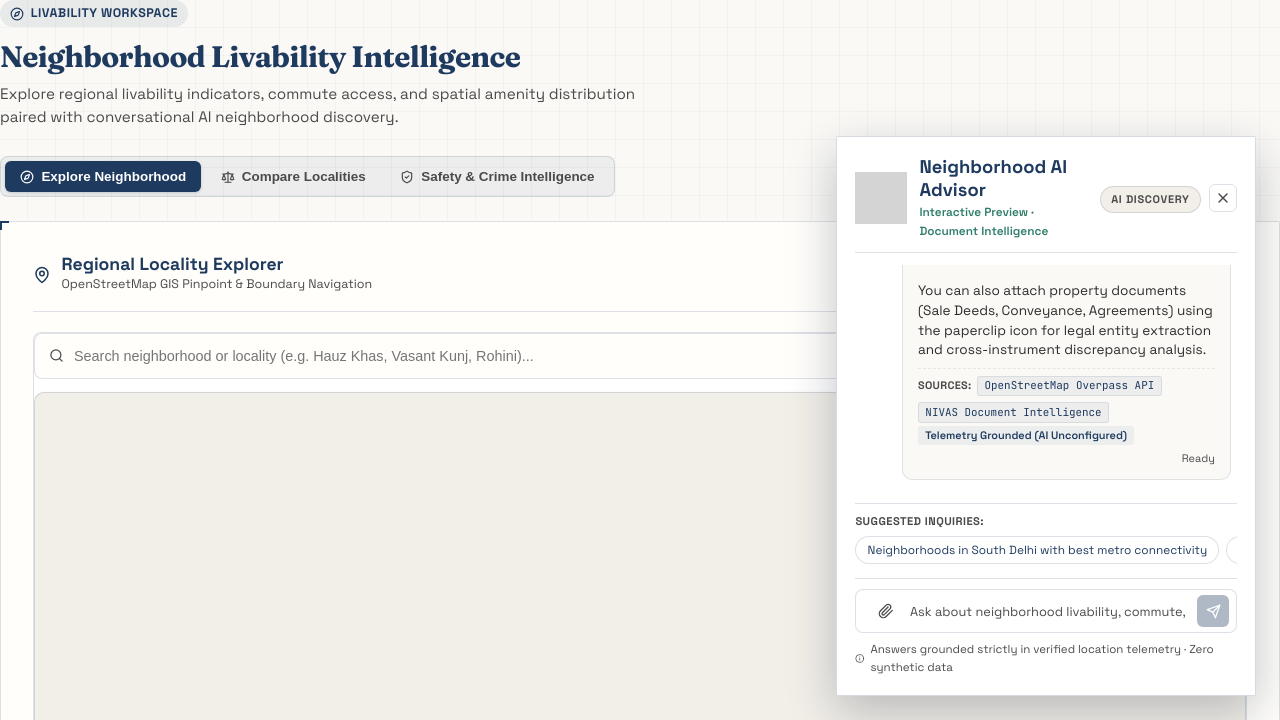
Test: LivabilityWorkspace Shell & State Isolation › handles sending a message with grounded advisor response and uses logo for assistant replies
(page scrolled)
Type "Best areas near green parks" into the field with placeholder "Ask about neighborhood livability, commute, schools..." at (1050, 611), box 910,596 -> 1189,626
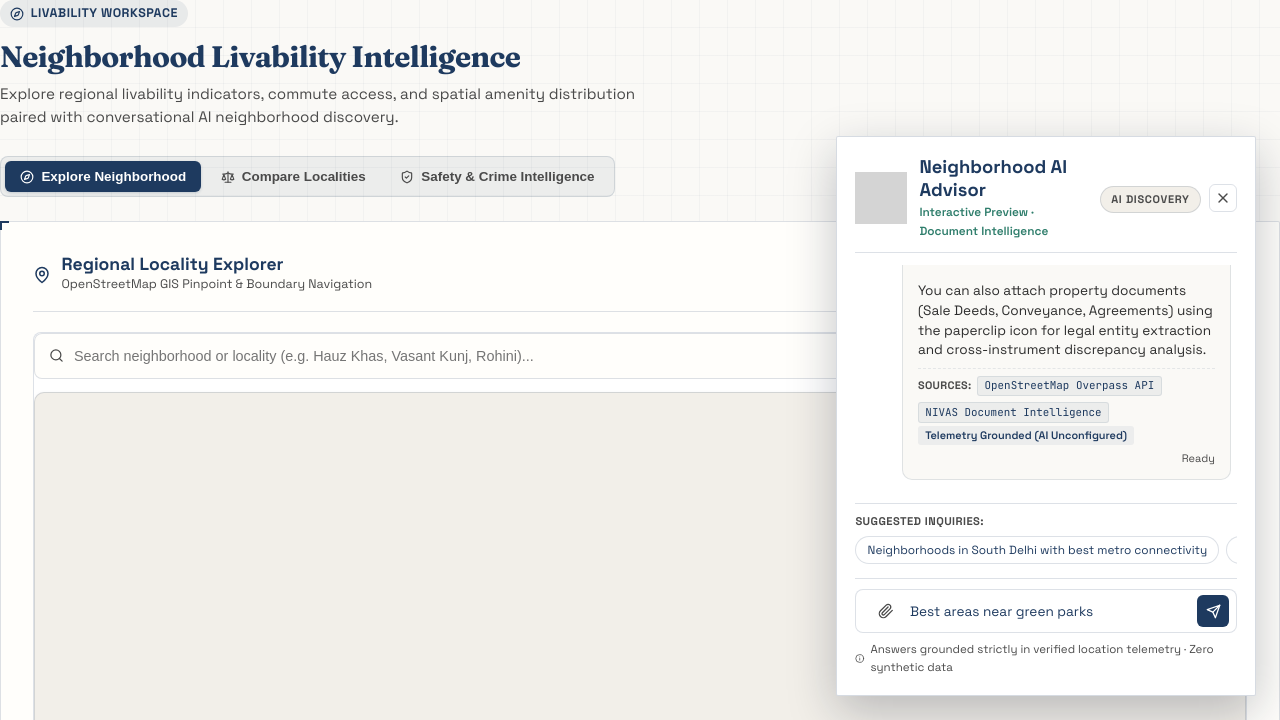
Click the button named "Send message" at (1213, 611), box 1197,595 -> 1229,627
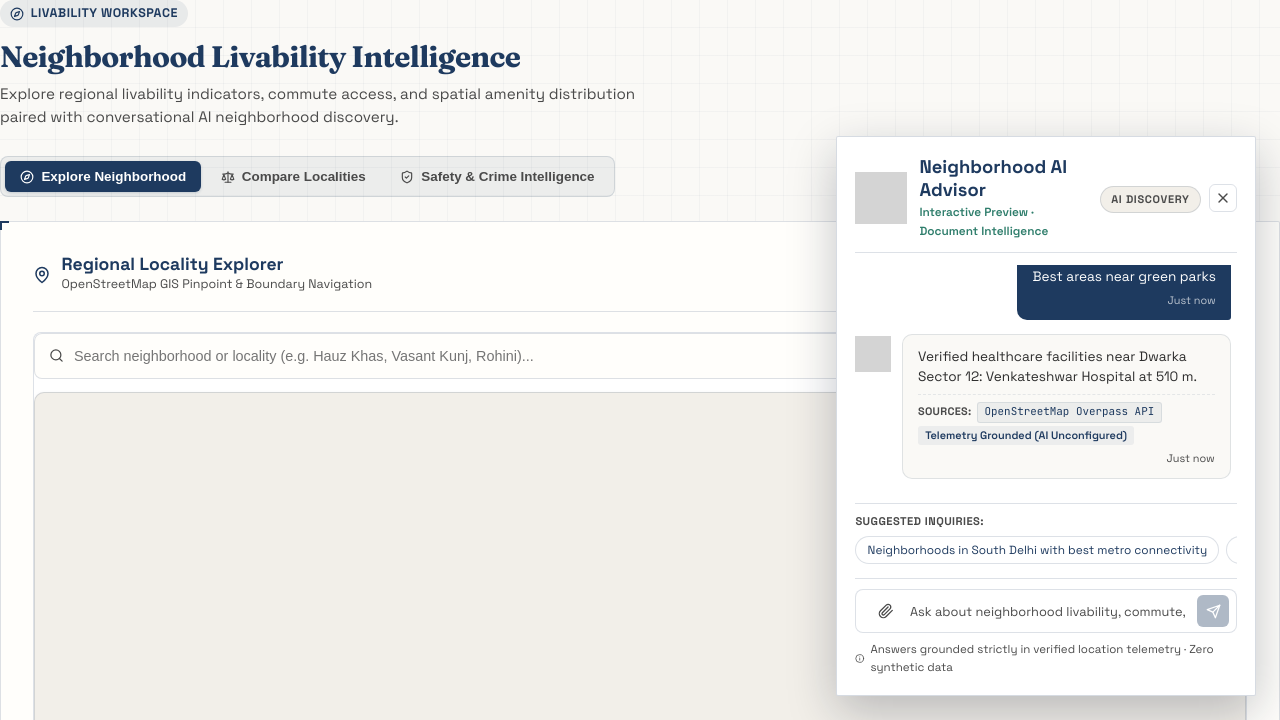
Result: the text "Best areas near green parks" is shown at 1032,267 -> 1216,287
Result: the field with placeholder "Ask about neighborhood livability, commute, schools..." is empty at 910,596 -> 1189,626
Result: the text "Venkateshwar Hospital at 510 m" is shown at 918,348 -> 1197,385
